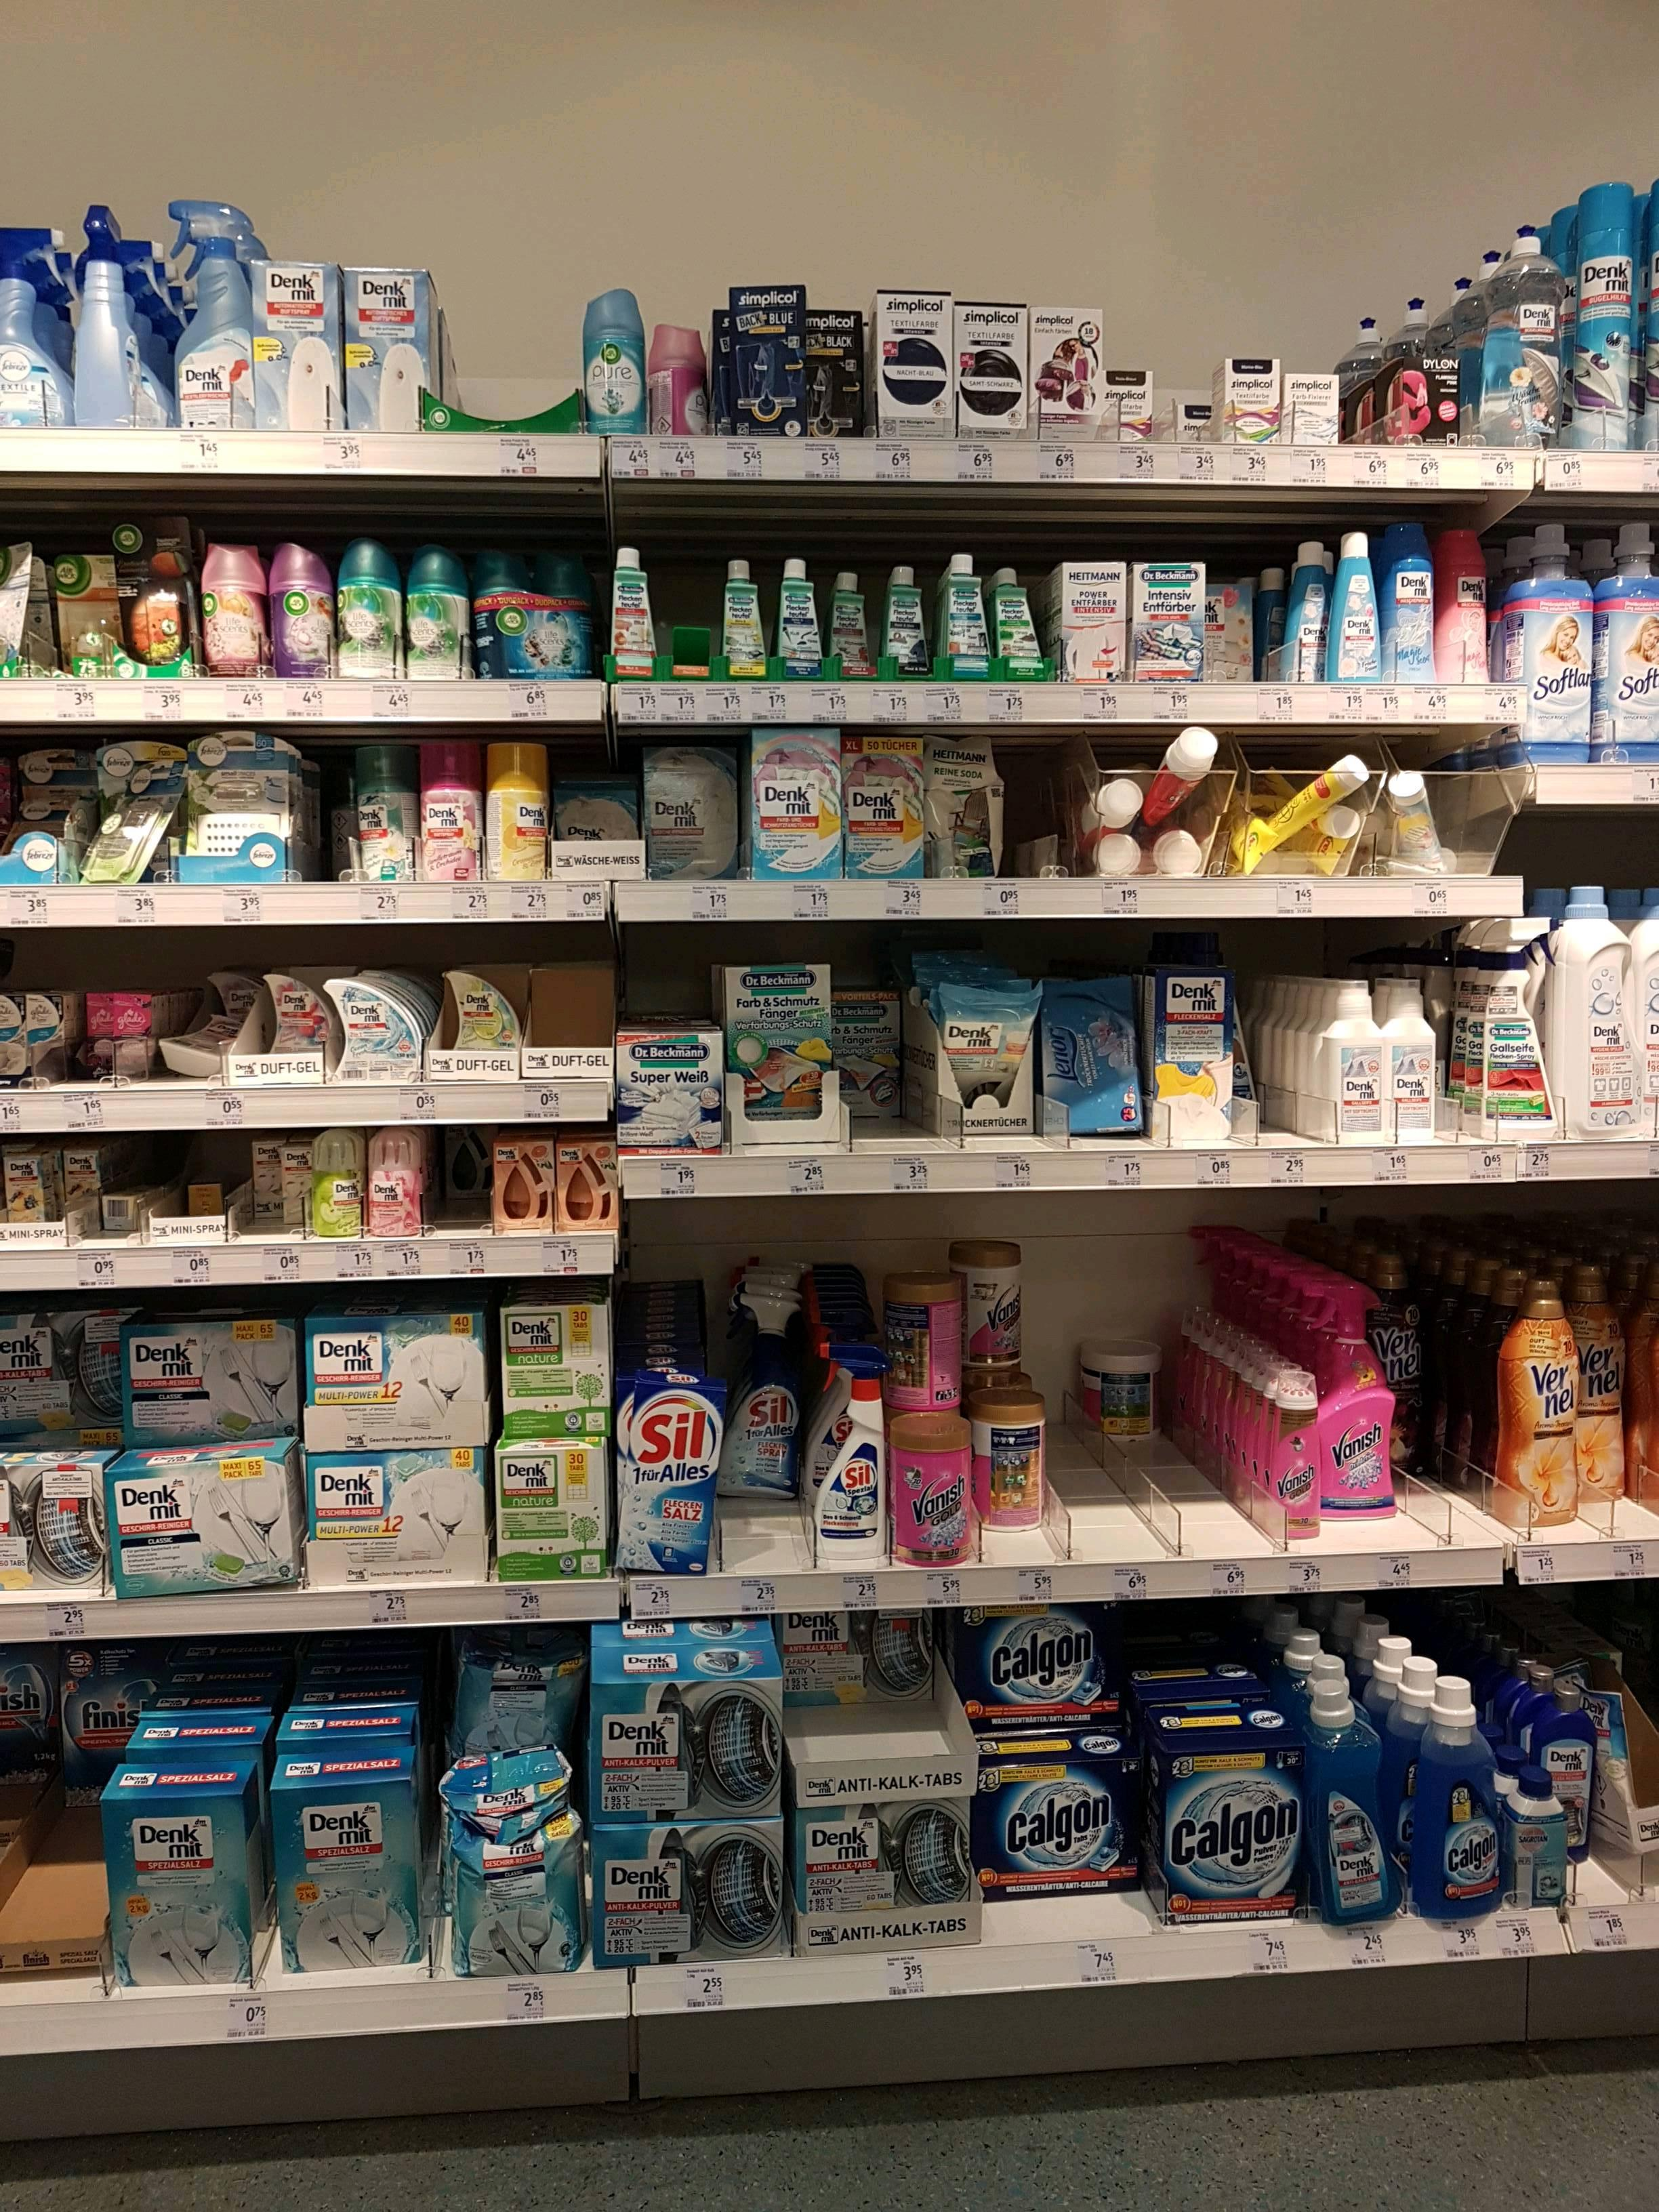empty: (439, 263, 570, 423), (1148, 1360, 1251, 1555), (1046, 1360, 1147, 1554), (1394, 1350, 1486, 1547), (838, 1003, 953, 1151), (721, 1407, 800, 1564), (662, 531, 714, 683)
